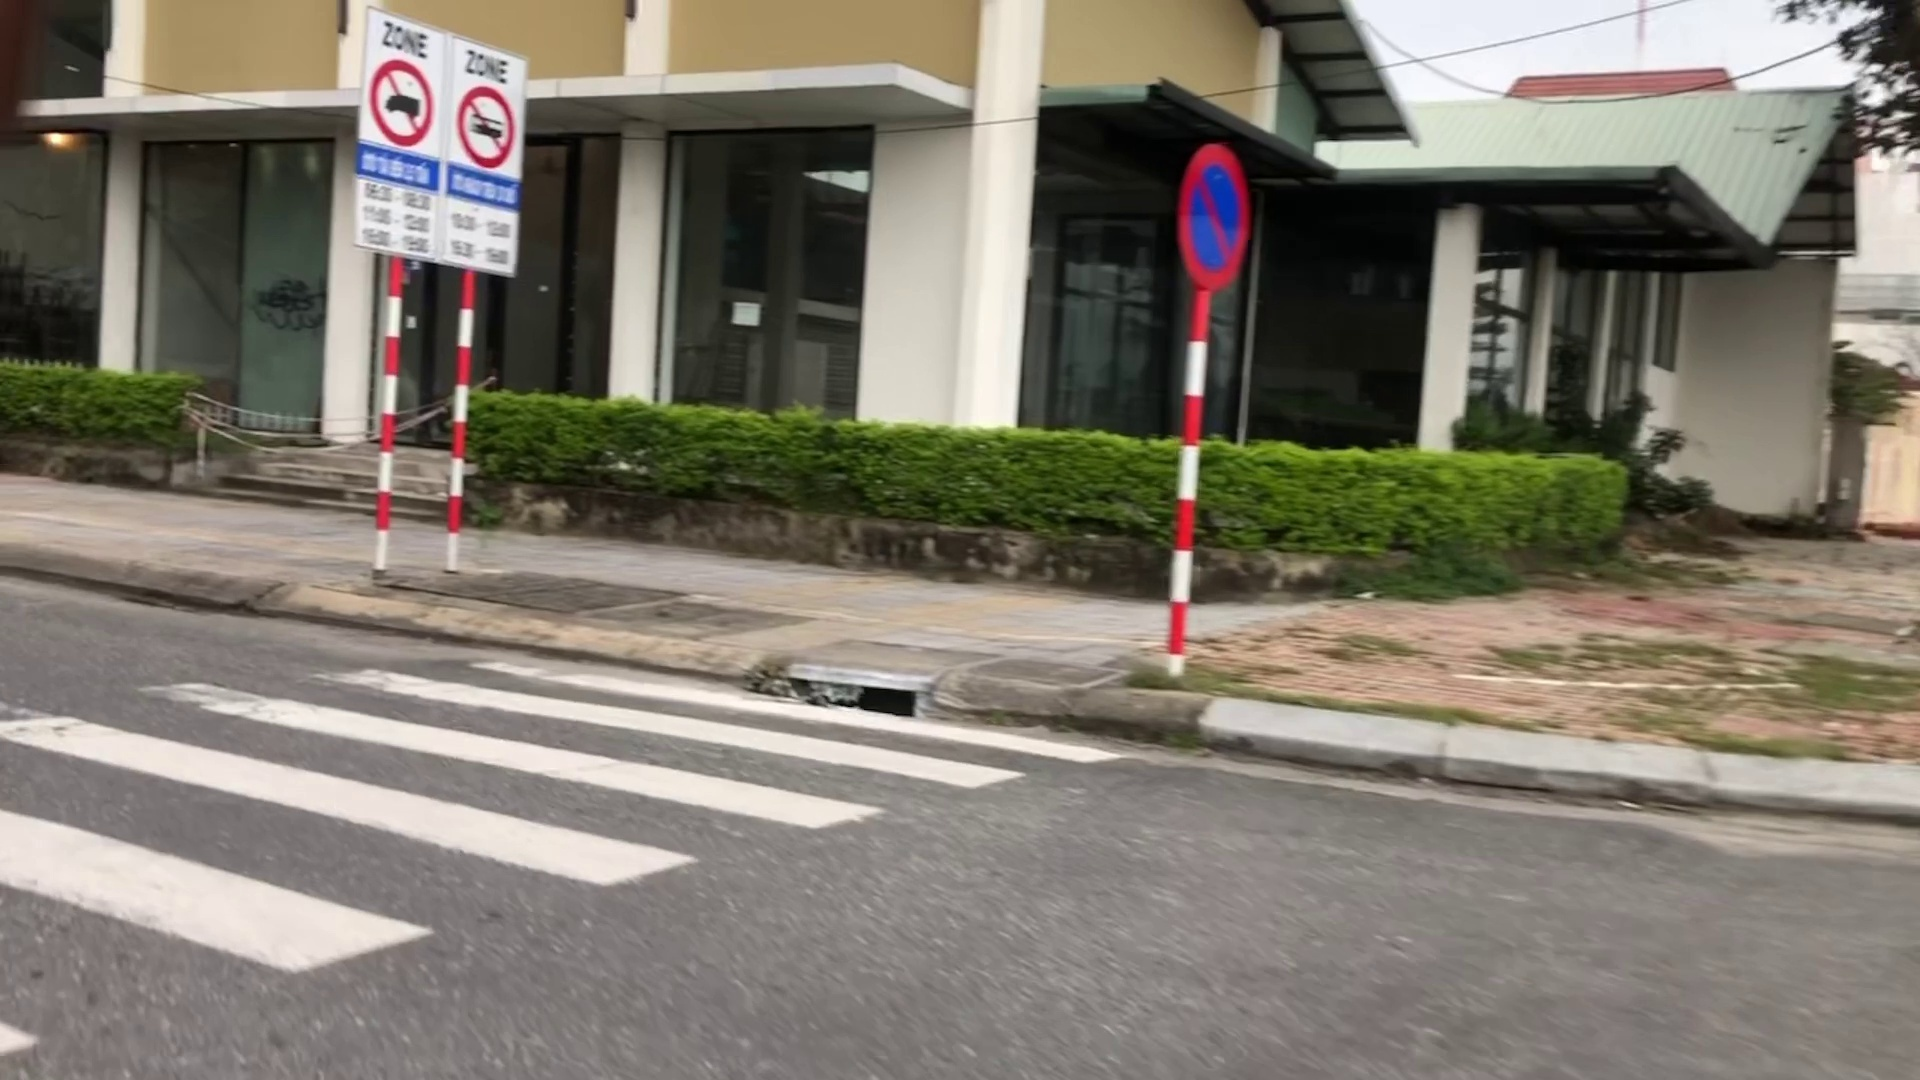Bien khac: (353, 5, 522, 277)
Cam do xe: (1167, 131, 1255, 287)
